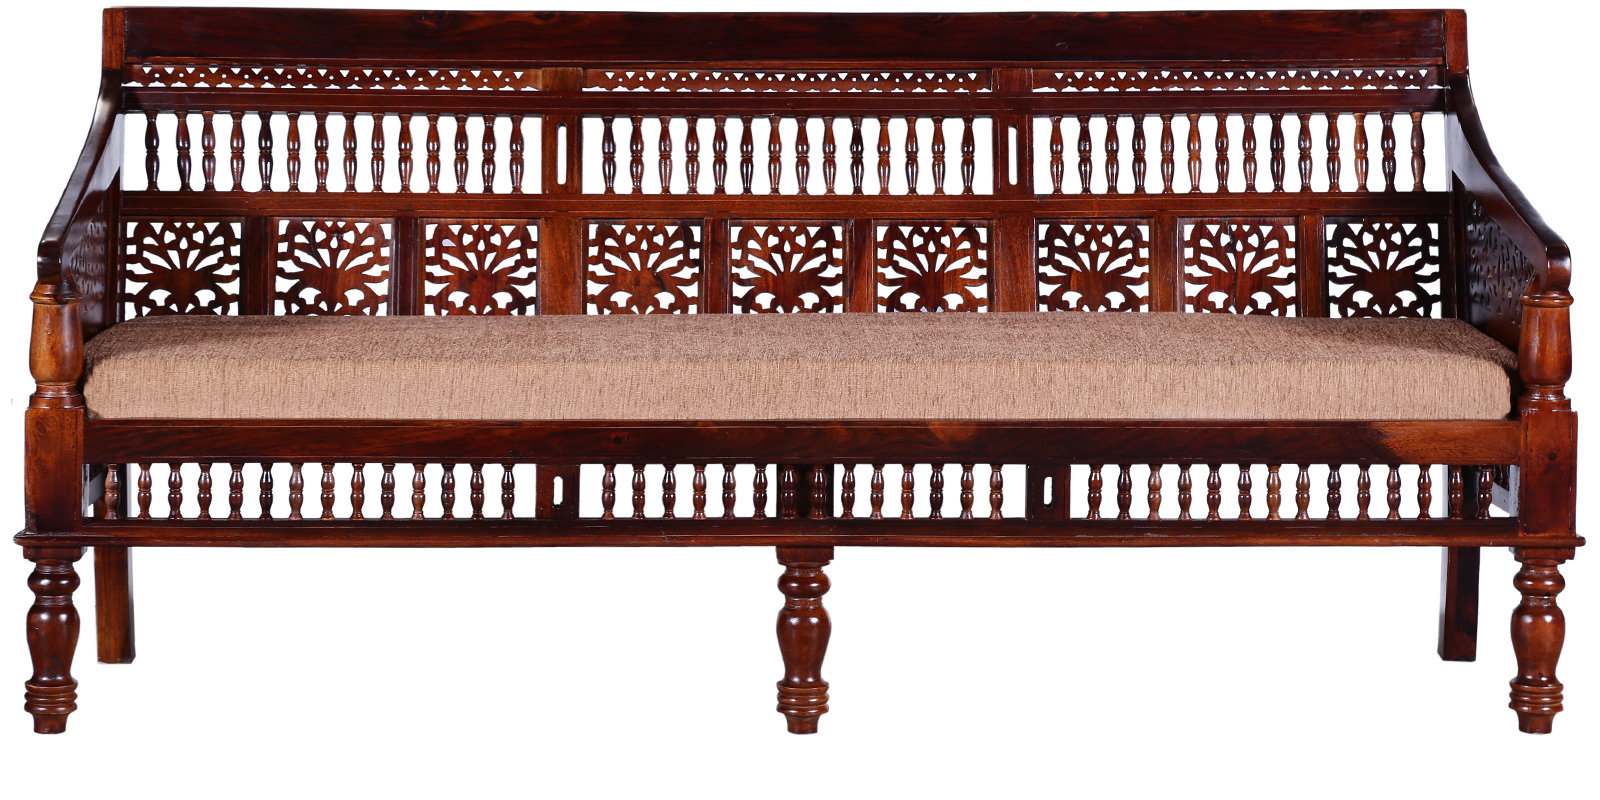Maurya Handcrafted Three Seater Sofa in Honey Oak Finish by Mudramark: (10, 5, 1587, 734)
